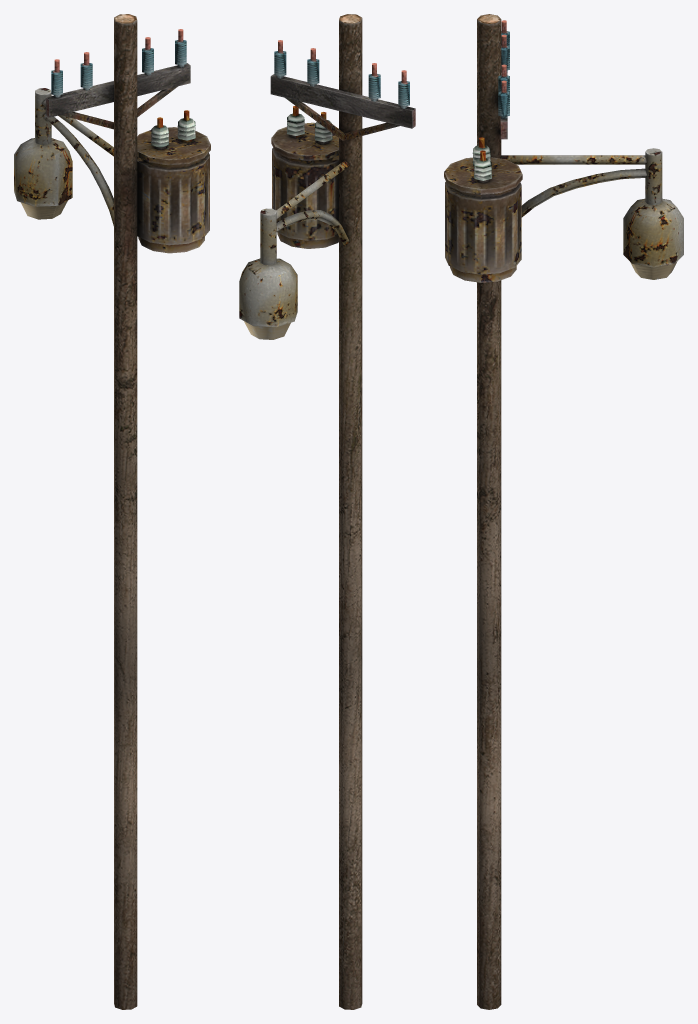
Rendered from Utility_Pole.fbx.
3 renders of one model, left to right at view 1: azimuth 30°, elevation 25°; view 2: azimuth 150°, elevation 25°; view 3: azimuth 270°, elevation 25°, orthographic.
Parts seen in each view (by area): view 1: Pole, Transformer, Lamp, Lamp_Glass; view 2: Pole, Transformer, Lamp, Lamp_Glass; view 3: Pole, Transformer, Lamp.
Part boxes in pixels (box(x1,y1,x2,y2)): Pole: box(45, 14, 190, 1009); Transformer: box(137, 110, 210, 253); Lamp: box(14, 88, 113, 225); Lamp_Glass: box(21, 200, 67, 219); Pole: box(270, 14, 415, 1009); Transformer: box(271, 105, 338, 248); Lamp: box(239, 160, 349, 327); Lamp_Glass: box(244, 321, 290, 339); Pole: box(477, 14, 509, 1009); Transformer: box(444, 137, 522, 282); Lamp: box(500, 148, 683, 267).
Bounding box in the file's own units: 2.21 × 14.09 × 3.11.
